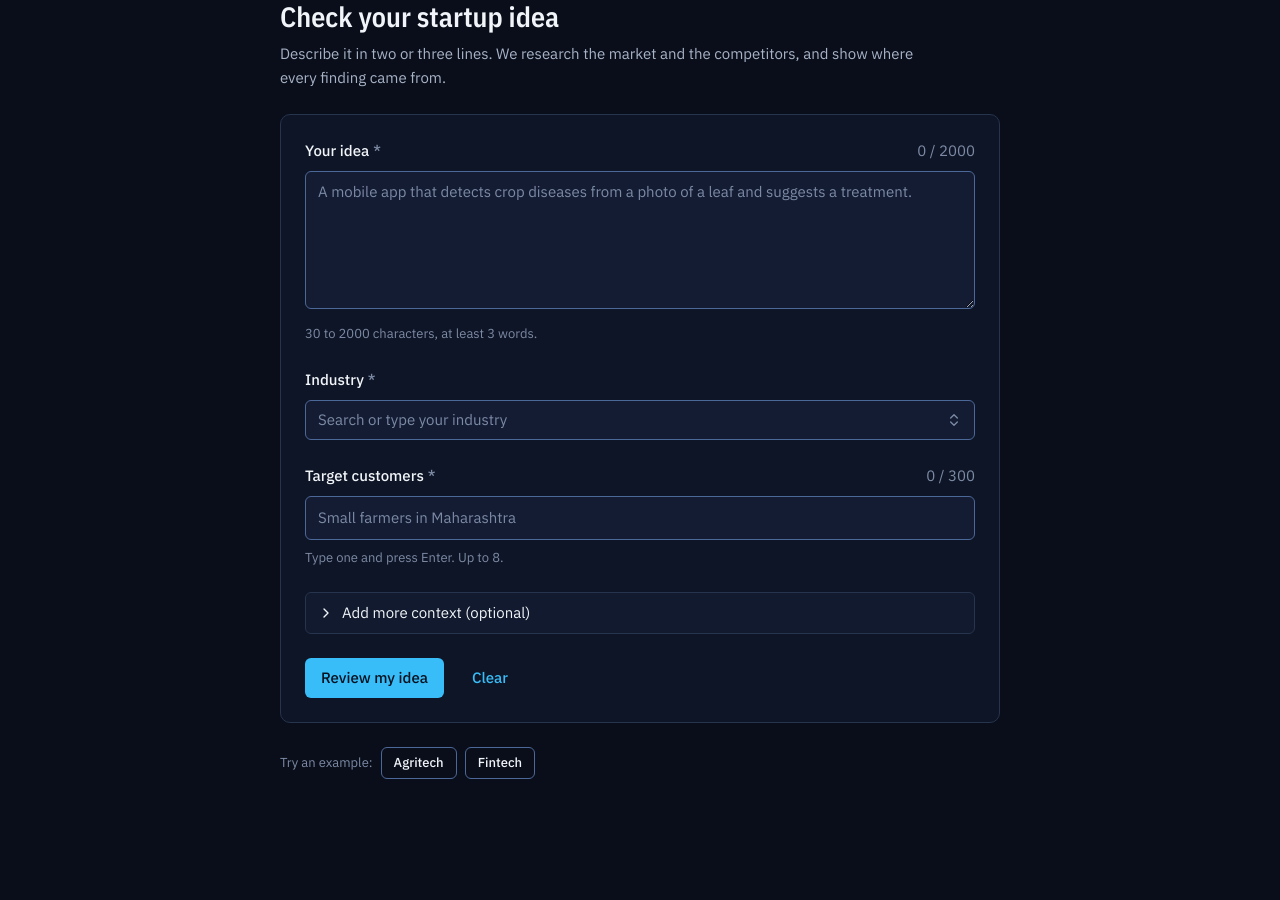
Test case: New validation: the industry combobox › lists the industries from the backend and leaves out the catch-all
The image size is (1280, 900).
What coordinates should you click on to do the following:
click the dropdown labelled "Search or type your industry"
I would click on:
 (413, 420)
Its box is [305,400,975,440].
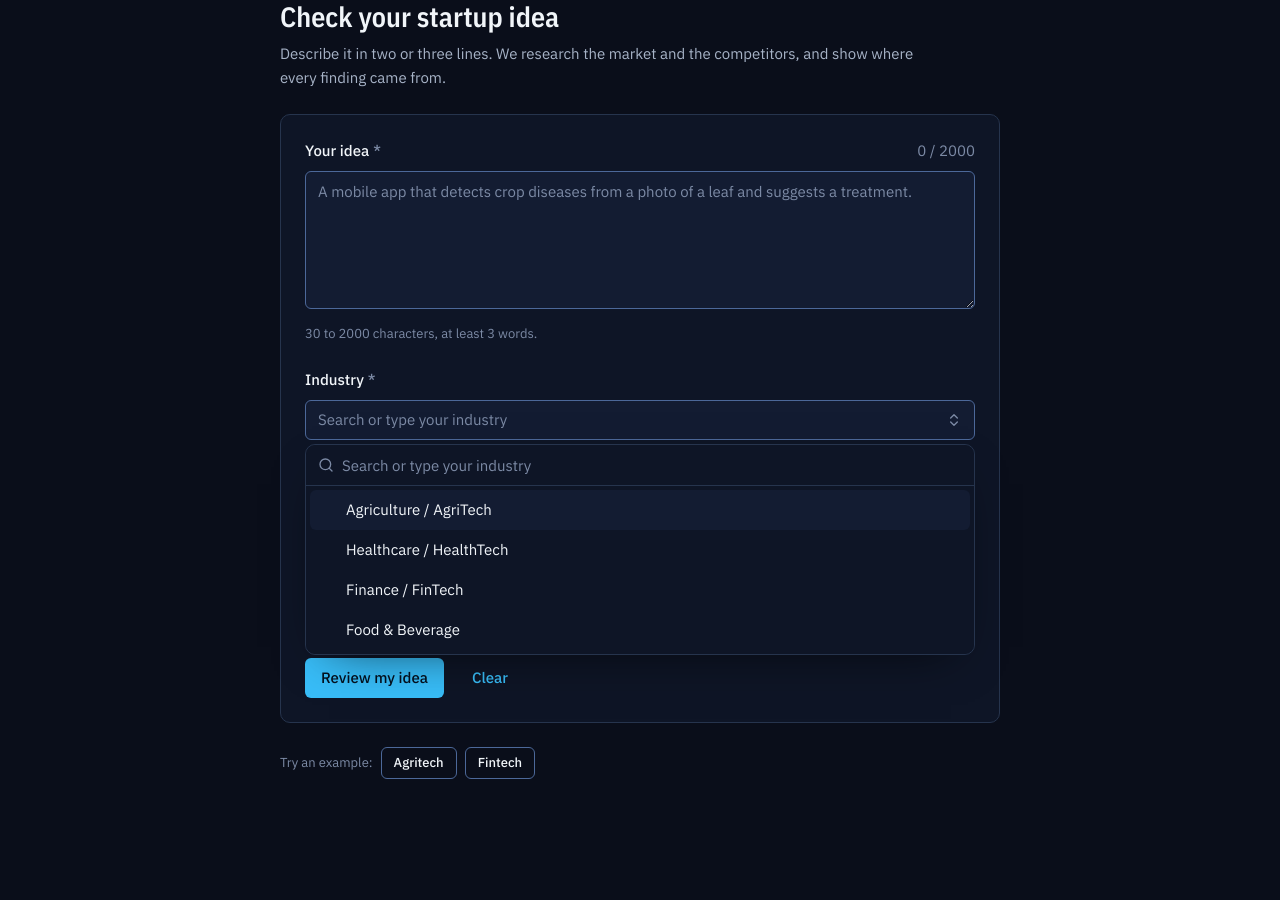
Check: the option "Agriculture / AgriTech" is shown, box [310,490,970,530]
Check: the option "Finance / FinTech" is shown, box [346,580,463,599]
